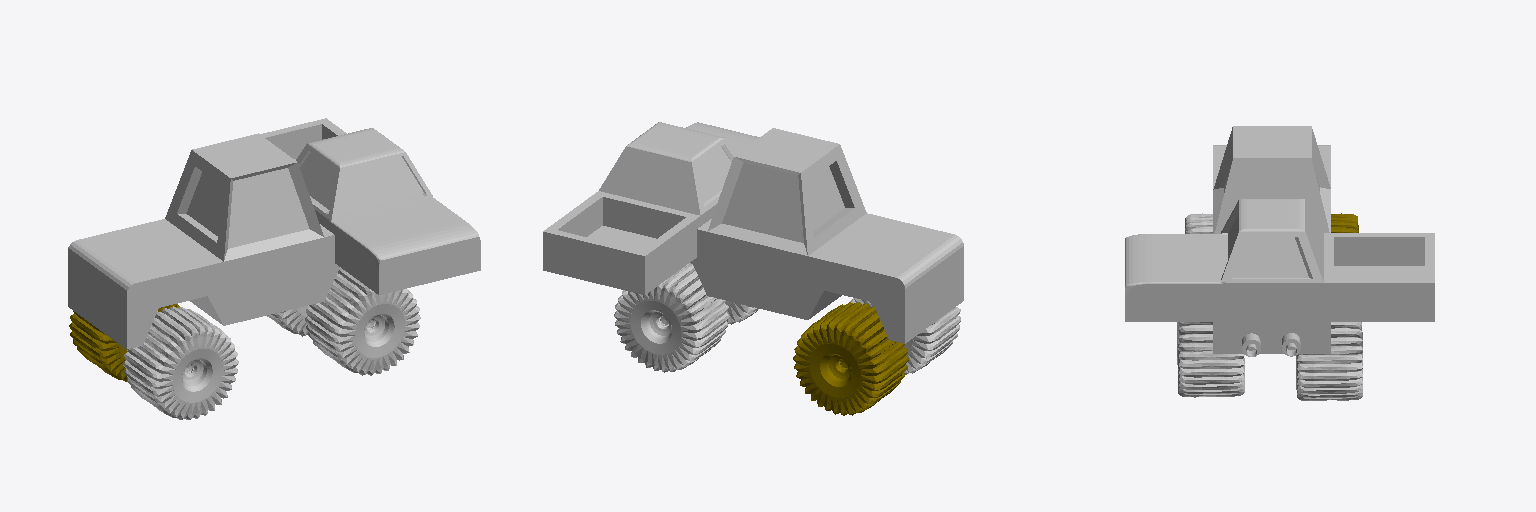
Rendered from monster_truck.obj.
3 renders of one model, left to right at view 1: azimuth 30°, elevation 25°; view 2: azimuth 150°, elevation 25°; view 3: azimuth 270°, elevation 25°, orthographic.
Visible parts, largest first — view 1: Cubo.001, Cubo, Cilindro.001_Cilindro.002, Cilindro.002_Cilindro.003, Cilindro.004_Cilindro.005, Cilindro.003_Cilindro.004; view 2: Cubo.001, Cubo, Cilindro.004_Cilindro.005, Cilindro.003_Cilindro.004, Cilindro.001_Cilindro.002; view 3: Cubo, Cubo.001, Cilindro.003_Cilindro.004, Cilindro.002_Cilindro.003, Cilindro_Cilindro.001, Cilindro.001_Cilindro.002.
Boxes of the visible parts, <box> form: Cubo.001: <box>68,133,339,349</box>; Cubo: <box>260,118,480,294</box>; Cilindro.001_Cilindro.002: <box>123,306,238,419</box>; Cilindro.002_Cilindro.003: <box>305,267,420,375</box>; Cilindro.004_Cilindro.005: <box>69,304,179,381</box>; Cilindro.003_Cilindro.004: <box>267,305,309,336</box>; Cubo.001: <box>692,128,963,343</box>; Cubo: <box>543,122,759,294</box>; Cilindro.004_Cilindro.005: <box>793,302,908,415</box>; Cilindro.003_Cilindro.004: <box>614,263,729,372</box>; Cilindro.001_Cilindro.002: <box>850,298,960,374</box>; Cubo: <box>1125,199,1434,321</box>; Cubo.001: <box>1213,126,1330,353</box>; Cilindro.003_Cilindro.004: <box>1296,322,1362,400</box>; Cilindro.002_Cilindro.003: <box>1177,322,1244,397</box>; Cilindro_Cilindro.001: <box>1242,333,1300,356</box>; Cilindro.001_Cilindro.002: <box>1185,213,1212,233</box>.
Bounding box in the file's own units: 6.38 × 3.99 × 5.25.